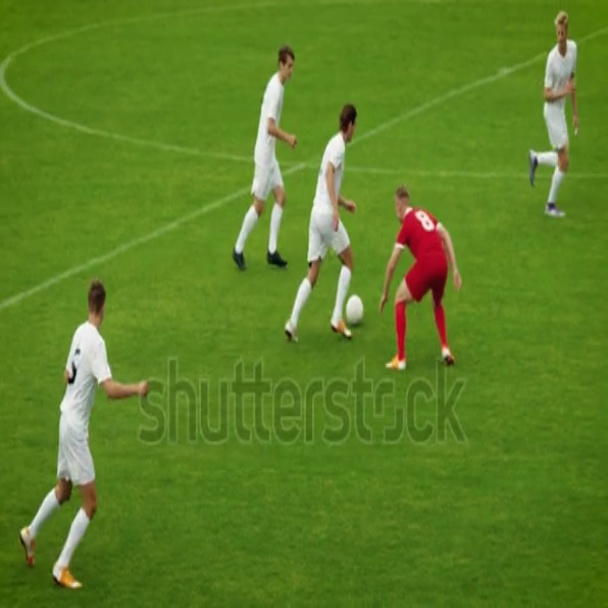ball: (348, 292, 364, 327)
